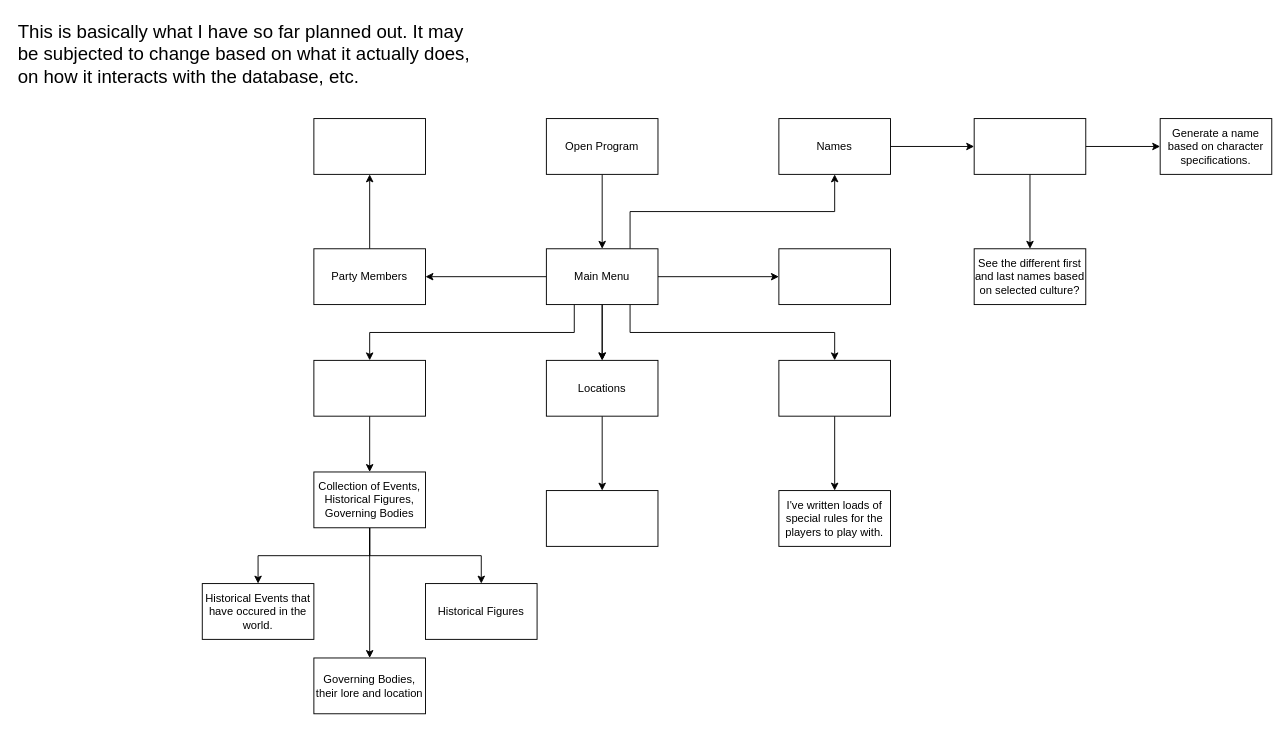
Some shapes in this 1288 by 730 pixel diagram are drawn without their labels. Each missing label, with the centre of its shape:
"Databases on party members, their equipment, etc." goes at (369,146).
"Equipment" goes at (834,276).
"Locations in the world. Cities, towns, where it is..." goes at (601,518).
"Lore" goes at (369,387).
"Name generation, databases of nomenclatures" goes at (1029,146).
"Special Rulings" goes at (834,387).
